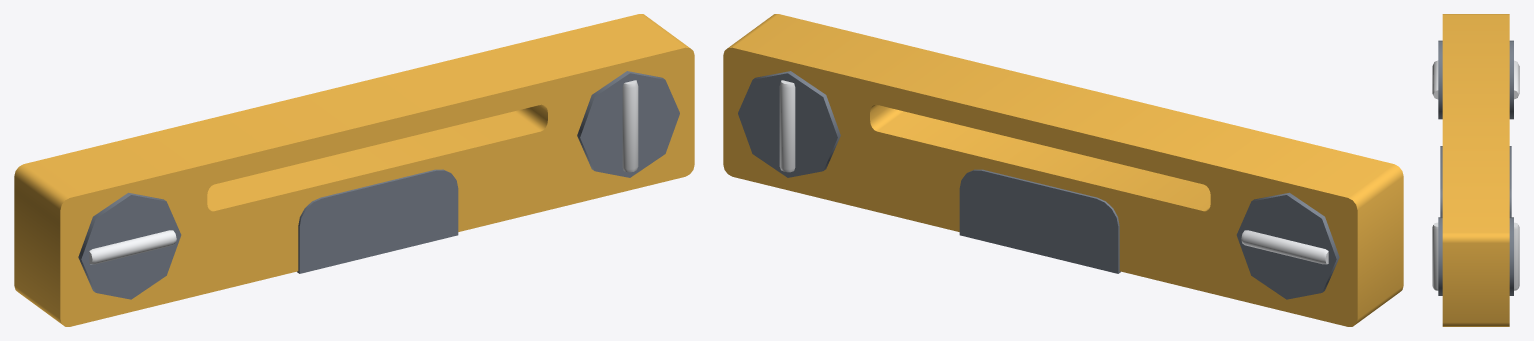
File: misc_leveler.glb
The picture shows the model from 3 angles, left to right: view 1: azimuth 30°, elevation 25°; view 2: azimuth 150°, elevation 25°; view 3: azimuth 270°, elevation 25°; orthographic projection. The views are drawn at different scales.
Visible parts, largest first — view 1: misc_leveler; view 2: misc_leveler; view 3: misc_leveler.
Boxes of the visible parts, x1,y1,x2,y2 form: misc_leveler: (14,14,694,326); misc_leveler: (723,14,1403,326); misc_leveler: (1432,14,1519,326).
Bounding box in the file's own units: 52.85 × 10.42 × 8.67.
Materials: 1 (1 with a texture image).
